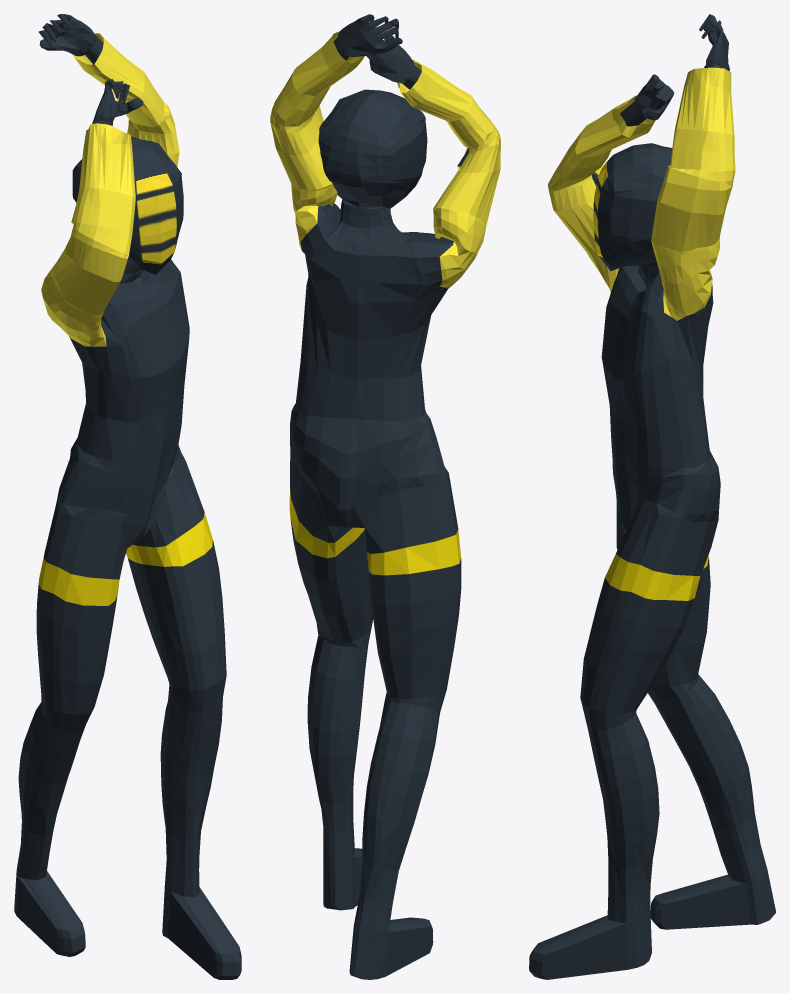
Rendered from Sentry_Attack_000009.obj.
3 renders of one model, left to right at view 1: azimuth 30°, elevation 25°; view 2: azimuth 150°, elevation 25°; view 3: azimuth 270°, elevation 25°, orthographic. The views are drawn at different scales.
Visible parts, largest first — view 1: Cube; view 2: Cube; view 3: Cube.
Part boxes in pixels (bbox=[...]): Cube: bbox=[14, 14, 241, 979]; Cube: bbox=[270, 14, 500, 979]; Cube: bbox=[529, 14, 775, 979].
Size of the model in its own units: 0.8692 by 4.46 by 1.09.
